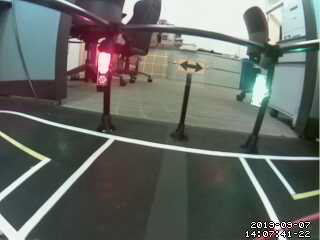Left_Right_sign: (173, 55, 208, 76)
Traffic_light_green: (248, 72, 272, 110)
Traffic_light_red: (95, 50, 113, 94)
